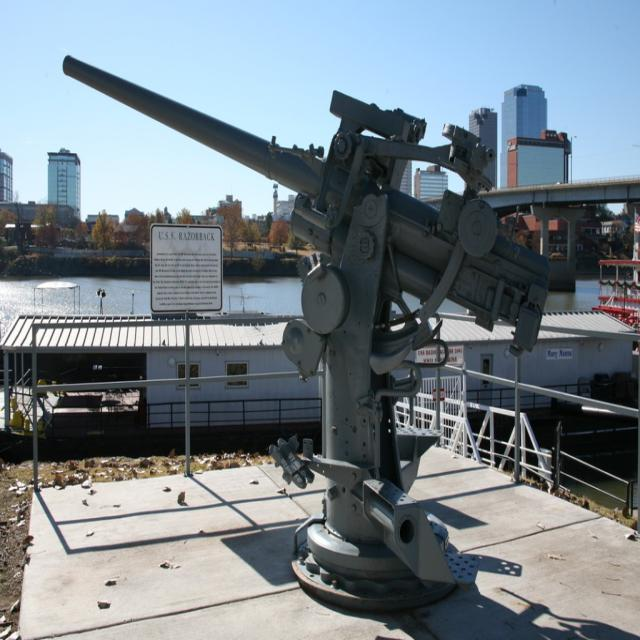Weapon: (45, 11, 560, 626)
